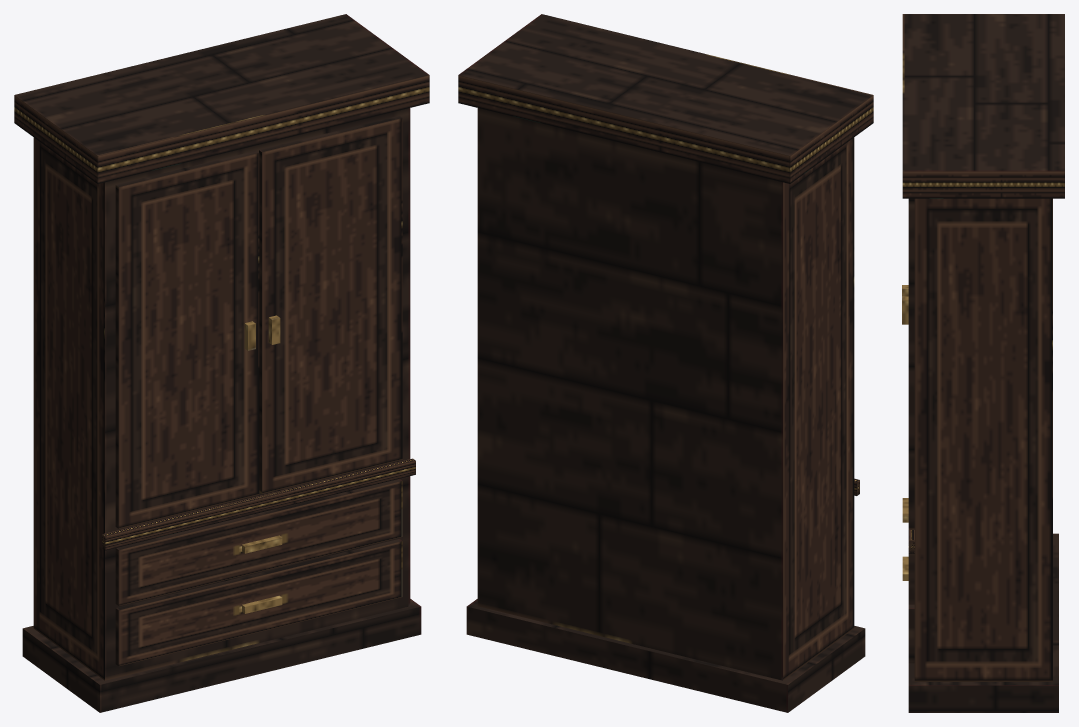
The model's file is Furn_Cabinet_Storage.fbx.
3 views of the same model, side by side, from view 1: azimuth 30°, elevation 25°; view 2: azimuth 150°, elevation 25°; view 3: azimuth 270°, elevation 25° (orthographic). The views are drawn at different scales.
Parts seen in each view (by area): view 1: Furn_Cabinet_Storage; view 2: Furn_Cabinet_Storage; view 3: Furn_Cabinet_Storage.
Boxes of the visible parts, box(x1,y1,x2,y2) form: Furn_Cabinet_Storage: box(14, 14, 429, 712); Furn_Cabinet_Storage: box(458, 14, 873, 712); Furn_Cabinet_Storage: box(902, 14, 1064, 712).
Size of the model in its own units: 1.24 by 2 by 0.5425.
